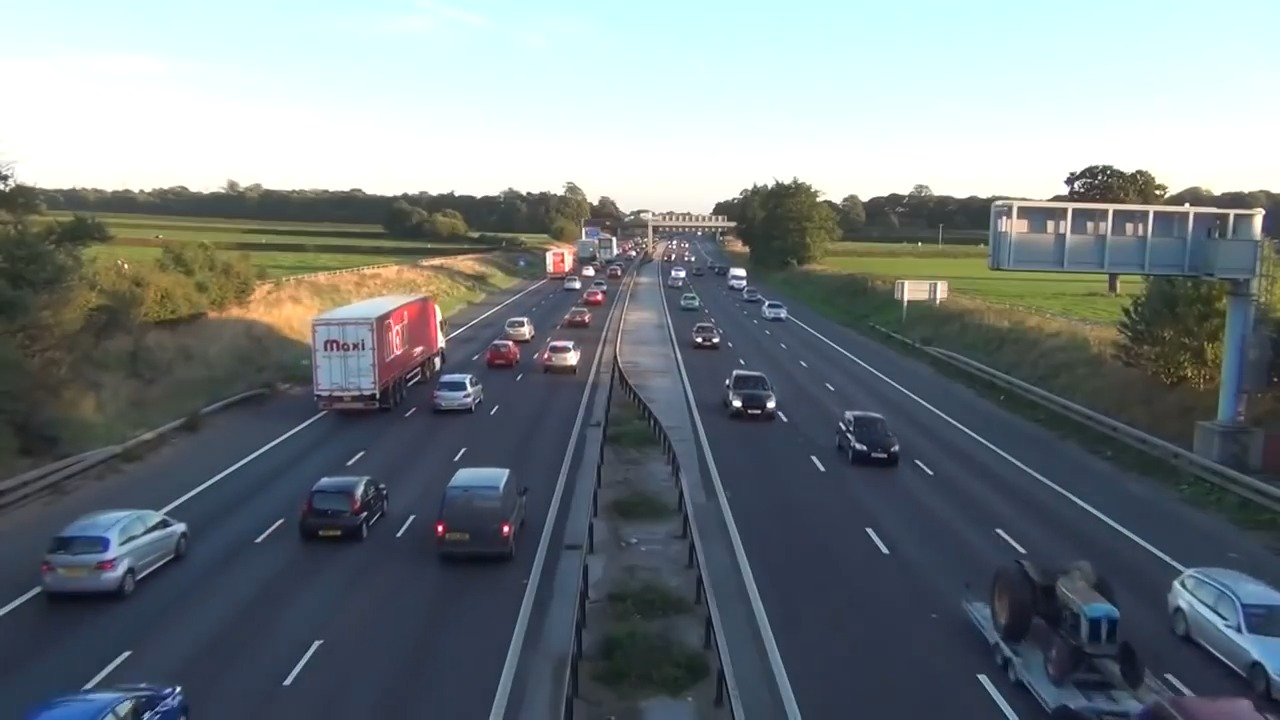truck: (309, 292, 446, 416)
